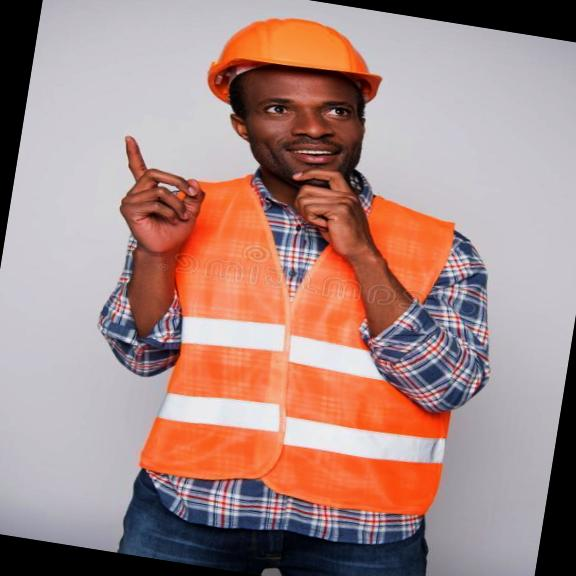safety_vest: (91, 154, 488, 520)
